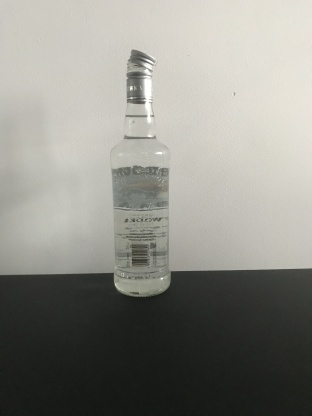nakretka: (124, 45, 157, 104)
